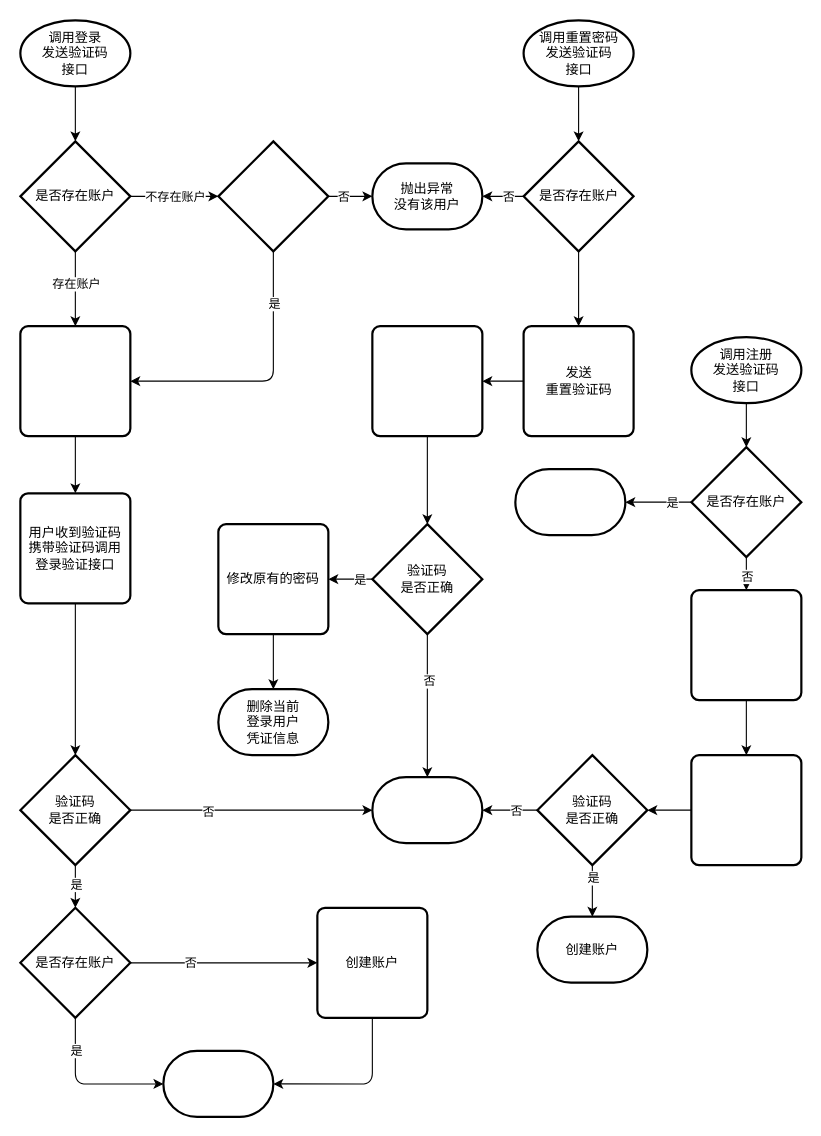
Some shapes in this 821 by 1136 pixel diagram are drawn without their labels. Each missing label, with the centre of its shape:
"发送 注册验证码" belongs at (x=746, y=644).
"发送 登录验证码" belongs at (x=75, y=380).
"抛出异常 账户已存在" belongs at (x=570, y=502).
"抛出异常 验证码错误" belongs at (x=427, y=810).
"是否开启 自动注册" belongs at (x=273, y=196).
"用户收到验证码 携带验证码调用 注册验证接口" belongs at (x=746, y=810).
"用户收到验证码 携带验证码调用 重置验证接口" belongs at (x=427, y=380).
"返回token" belongs at (x=218, y=1083).
